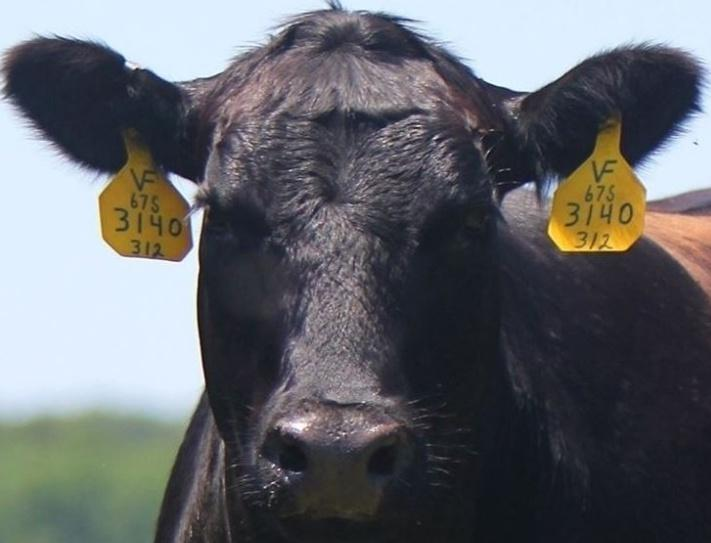muzzles: (240, 395, 429, 538)
